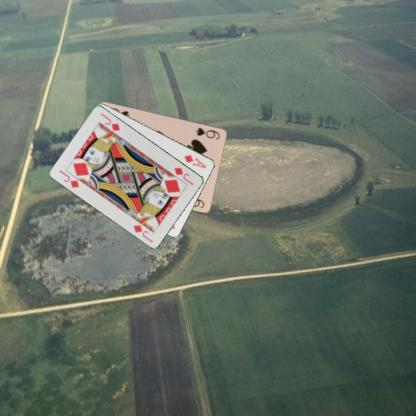6s: (194, 125, 221, 140)
Ad: (182, 152, 208, 169)
Jd: (57, 167, 81, 189), (172, 164, 194, 186)
